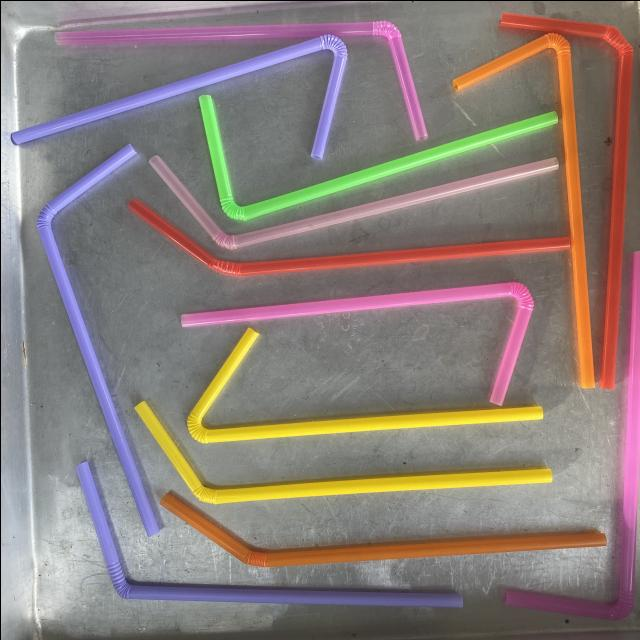plastik: (76, 461, 461, 606), (452, 32, 595, 387), (499, 11, 633, 387), (504, 251, 640, 619), (36, 144, 158, 535), (197, 94, 557, 220), (53, 20, 427, 138), (180, 281, 533, 404), (135, 400, 551, 503), (10, 33, 346, 158), (186, 327, 542, 442), (148, 154, 558, 248), (159, 492, 605, 567)
